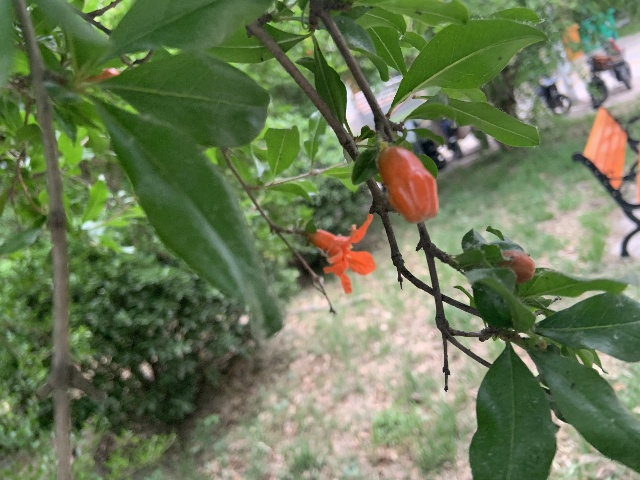bud: (378, 144, 438, 224), (496, 250, 535, 283), (87, 69, 120, 82)
flower: (307, 212, 375, 293)
